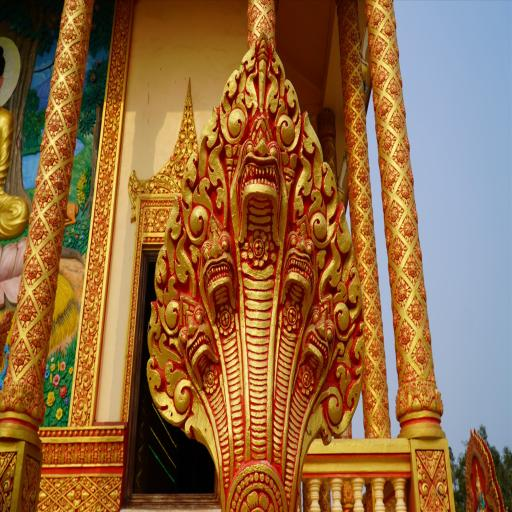ran: (126, 15, 384, 512)
than: (0, 41, 30, 250)
